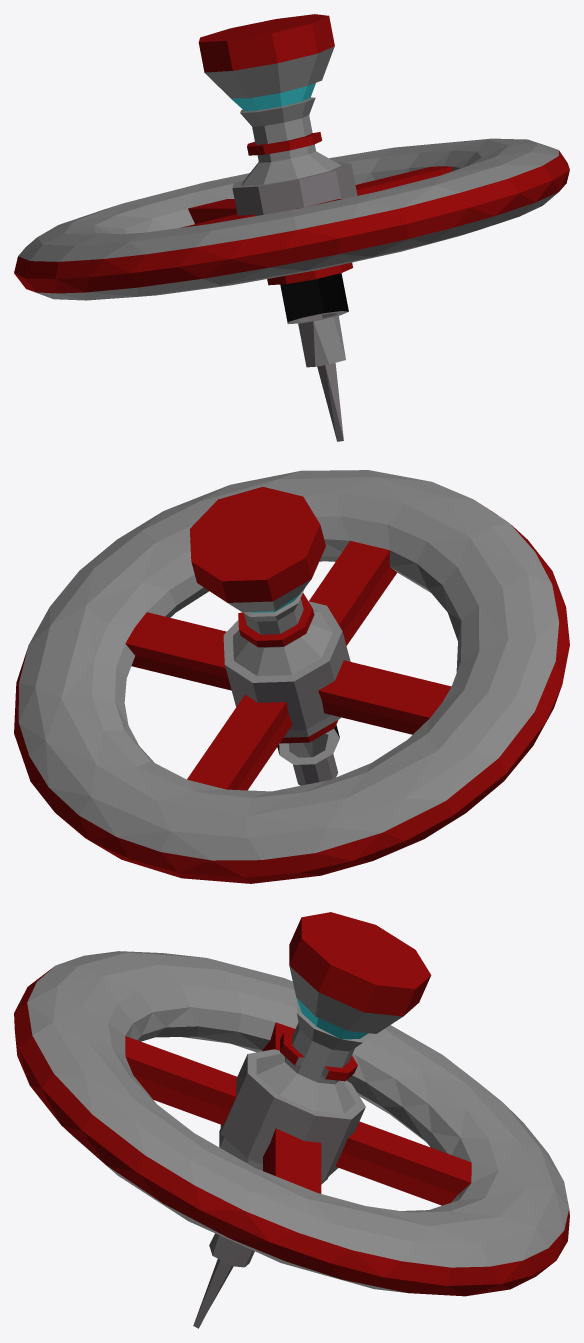
Rendered from SPACESTATION1.fbx.
The picture shows the model from 3 angles, top to bottom: view 1: azimuth 30°, elevation 25°; view 2: azimuth 150°, elevation 25°; view 3: azimuth 270°, elevation 25°; orthographic projection. The views are drawn at different scales.
Parts seen in each view (by area): view 1: Torus; view 2: Torus; view 3: Torus.
Part boxes in pixels (box(x1,y1,x2,y2)): Torus: box(14, 14, 569, 441); Torus: box(14, 470, 569, 883); Torus: box(14, 912, 569, 1328).
Bounding box in the file's own units: 911 × 670 × 844.
